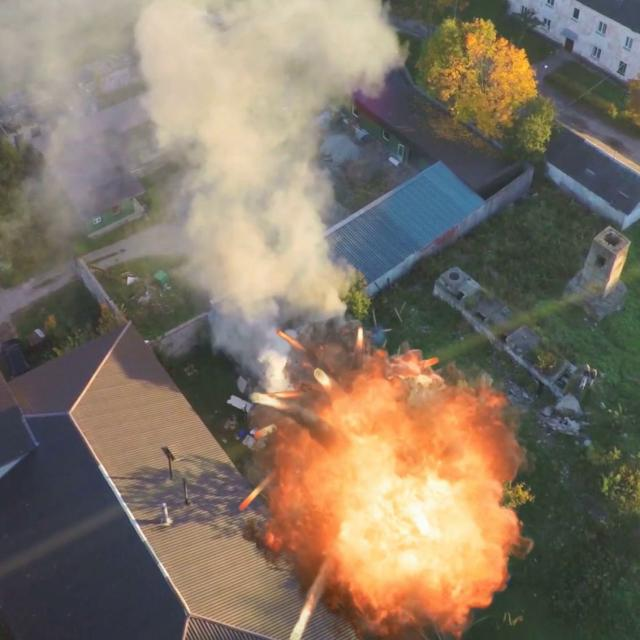Fire: (280, 387, 523, 616)
Smoke: (40, 1, 390, 318)
